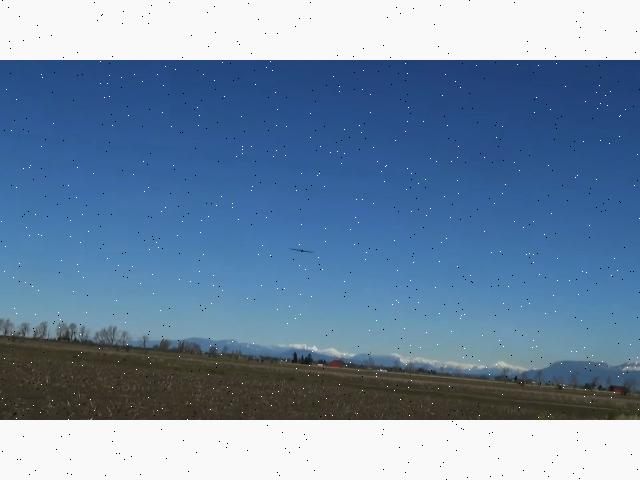Anti-Drone: (283, 239, 323, 265)
